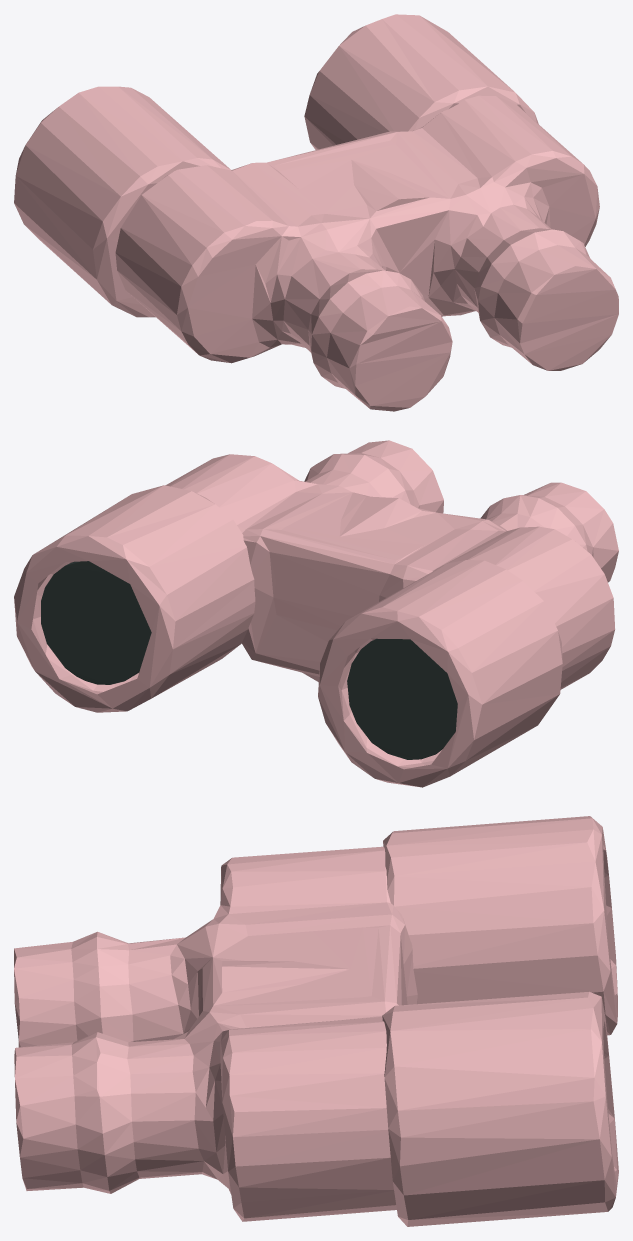
File: fernglas.glb
The picture shows the model from 3 angles, top to bottom: view 1: azimuth 30°, elevation 25°; view 2: azimuth 150°, elevation 25°; view 3: azimuth 270°, elevation 25°; orthographic projection. The views are drawn at different scales.
Visible parts, largest first — view 1: 292239_23_06_11_15_35_11_0, 292239_23_06_11_15_35_11_2, 292239_23_06_11_15_35_11_1; view 2: 292239_23_06_11_15_35_11_0, 292239_23_06_11_15_35_11_2, 292239_23_06_11_15_35_11_1, 292239_23_06_11_15_35_11_4, 292239_23_06_11_15_35_11_3; view 3: 292239_23_06_11_15_35_11_0, 292239_23_06_11_15_35_11_1, 292239_23_06_11_15_35_11_2.
Boxes of the visible parts, left/top/right/bottom form: 292239_23_06_11_15_35_11_0: left=115, top=95, right=618, bottom=411; 292239_23_06_11_15_35_11_2: left=14, top=86, right=230, bottom=317; 292239_23_06_11_15_35_11_1: left=304, top=14, right=538, bottom=149; 292239_23_06_11_15_35_11_0: left=165, top=440, right=618, bottom=689; 292239_23_06_11_15_35_11_2: left=318, top=560, right=562, bottom=787; 292239_23_06_11_15_35_11_1: left=14, top=485, right=255, bottom=712; 292239_23_06_11_15_35_11_4: left=347, top=638, right=457, bottom=759; 292239_23_06_11_15_35_11_3: left=41, top=561, right=151, bottom=684; 292239_23_06_11_15_35_11_0: left=14, top=846, right=417, bottom=1221; 292239_23_06_11_15_35_11_1: left=382, top=991, right=618, bottom=1226; 292239_23_06_11_15_35_11_2: left=383, top=816, right=617, bottom=1035.
Size of the model in its own units: 11.24 by 4.2 by 10.69.
Materials: 5 (5 with a texture image).
